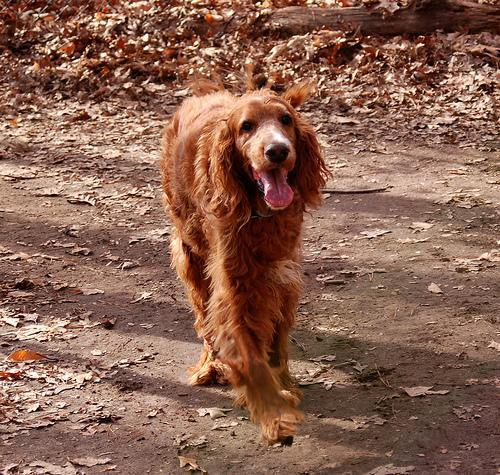Irish_setter: (160, 86, 331, 446)
